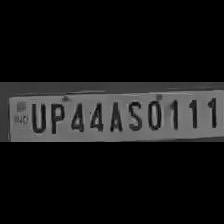0: (144, 97, 164, 131)
1: (200, 94, 220, 128), (164, 96, 182, 132), (183, 96, 200, 128)
4: (66, 99, 86, 134), (85, 99, 105, 134)
A: (104, 97, 124, 133)
P: (46, 99, 66, 134)
S: (124, 96, 144, 132)
U: (27, 100, 47, 132)
